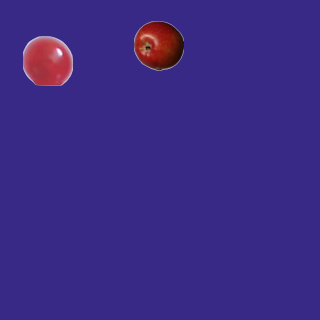Apple Braeburn: (133, 20, 183, 70)
Redcurrant: (22, 35, 72, 85)
